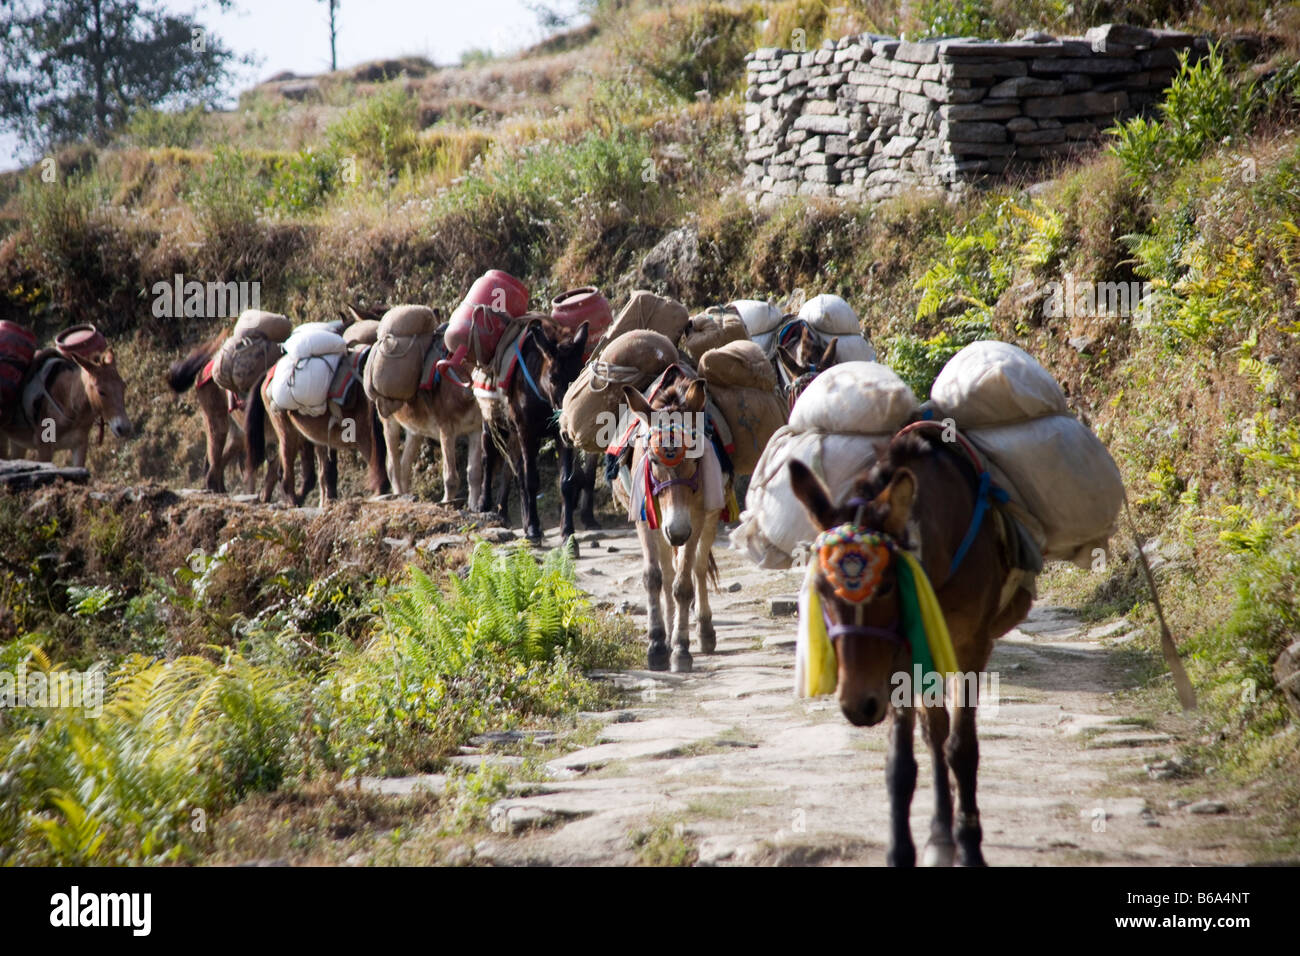equine: (745, 392, 1128, 875), (580, 361, 791, 678), (453, 308, 629, 546), (354, 312, 530, 519), (238, 330, 404, 542), (173, 334, 317, 518), (4, 342, 148, 483)
